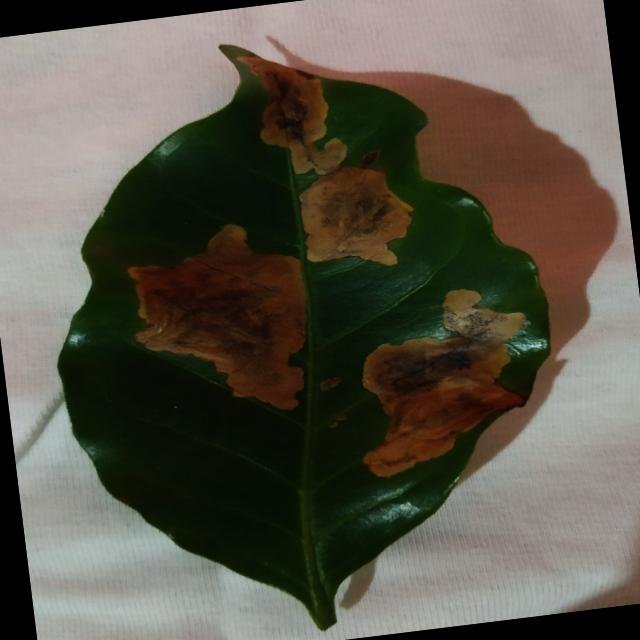KaratDaunKopi: (238, 54, 346, 174), (300, 166, 413, 265), (443, 30, 540, 69), (360, 150, 379, 168), (320, 376, 341, 390)
